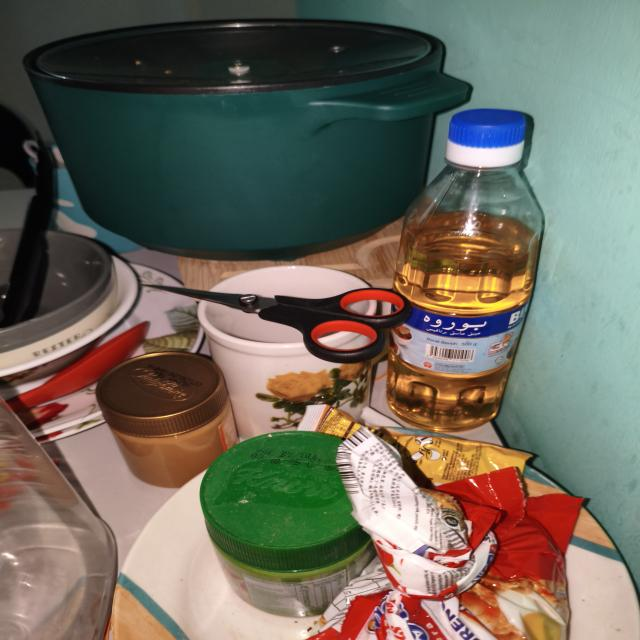scissor: (145, 283, 411, 363)
